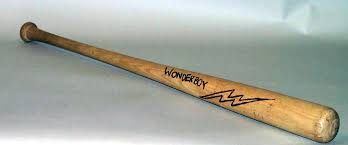baseball bat: (20, 22, 339, 143)
